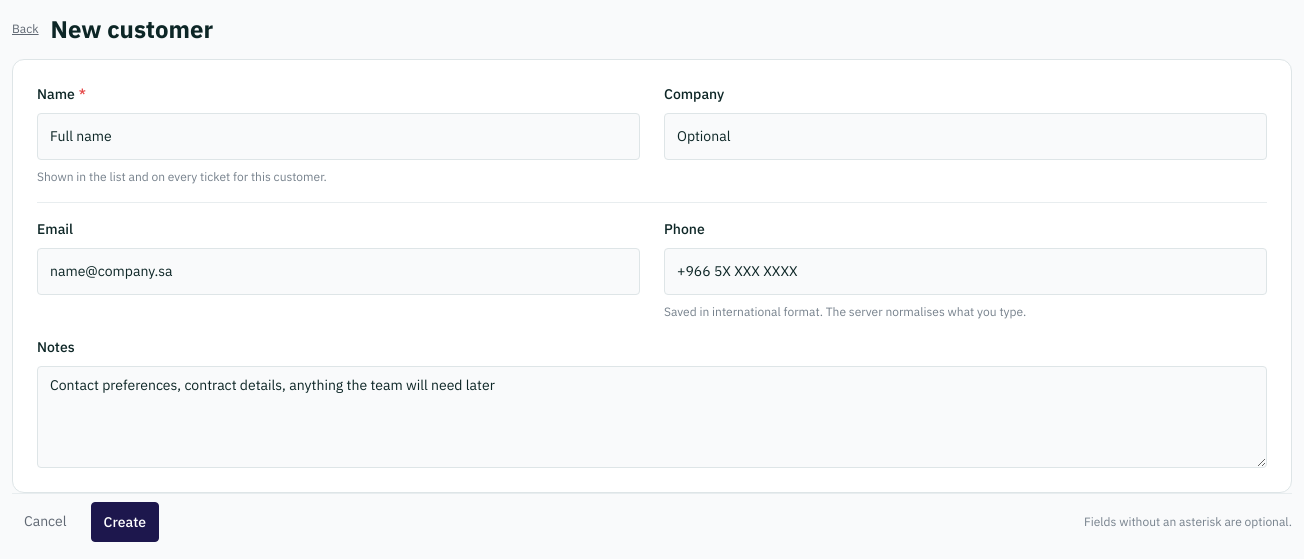
AC-6 — one request per submit, and the control keeps its name › keeps the submit control’s accessible name while the request is in flight
Type "Noura Al-Salem" into the field labelled "Name". click: x=338, y=136
box: [37,113,640,160]
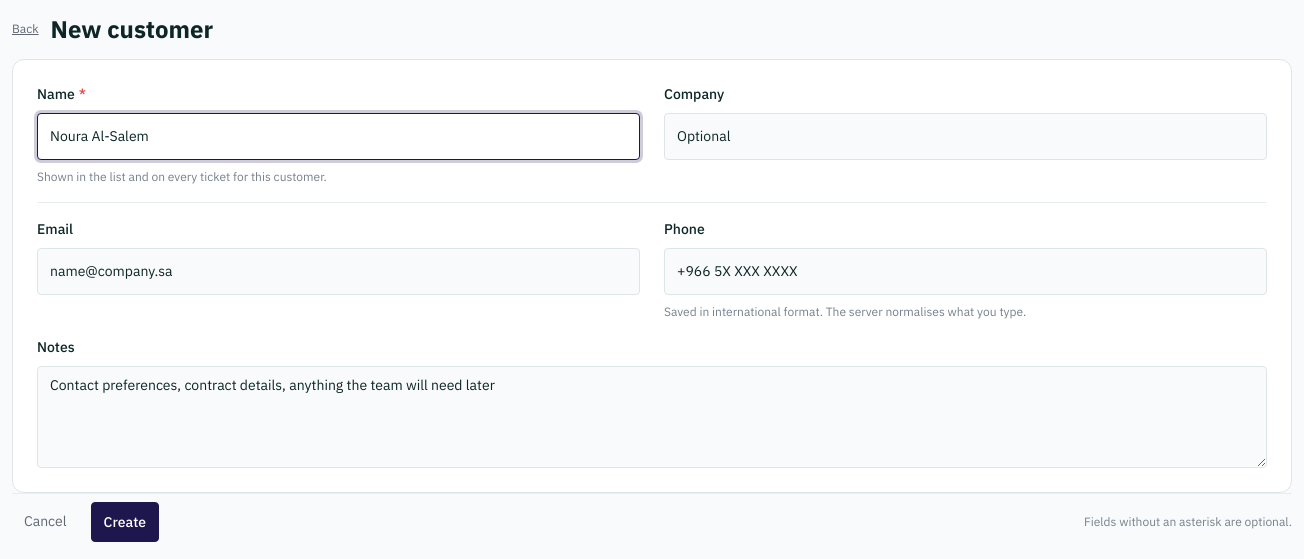
Type "noura@example.com" into the field labelled "Email". click: x=338, y=271
box: [37,248,640,295]
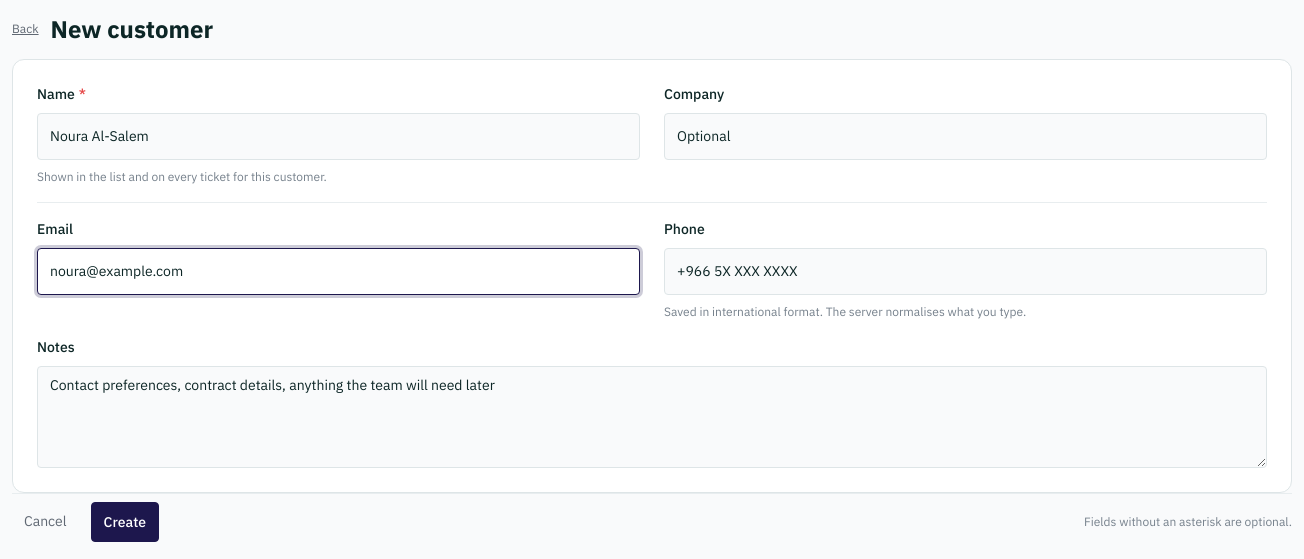
Click the button "Create". click: x=125, y=522
box: [91,502,159,542]
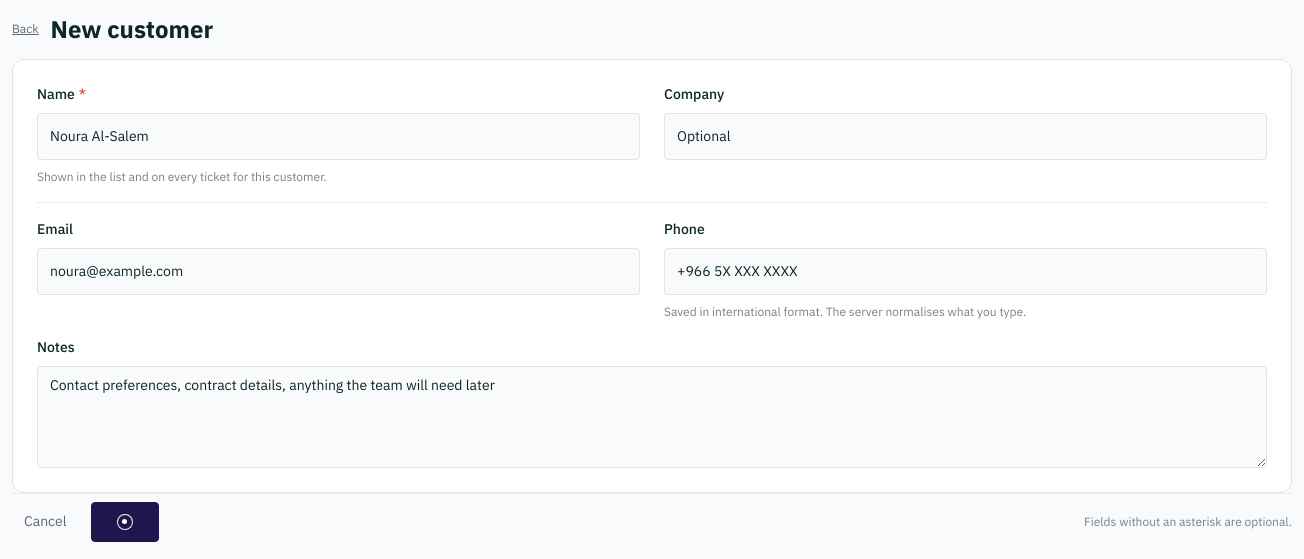
Check: the button named "Create" is disabled, box [91,502,159,542]
